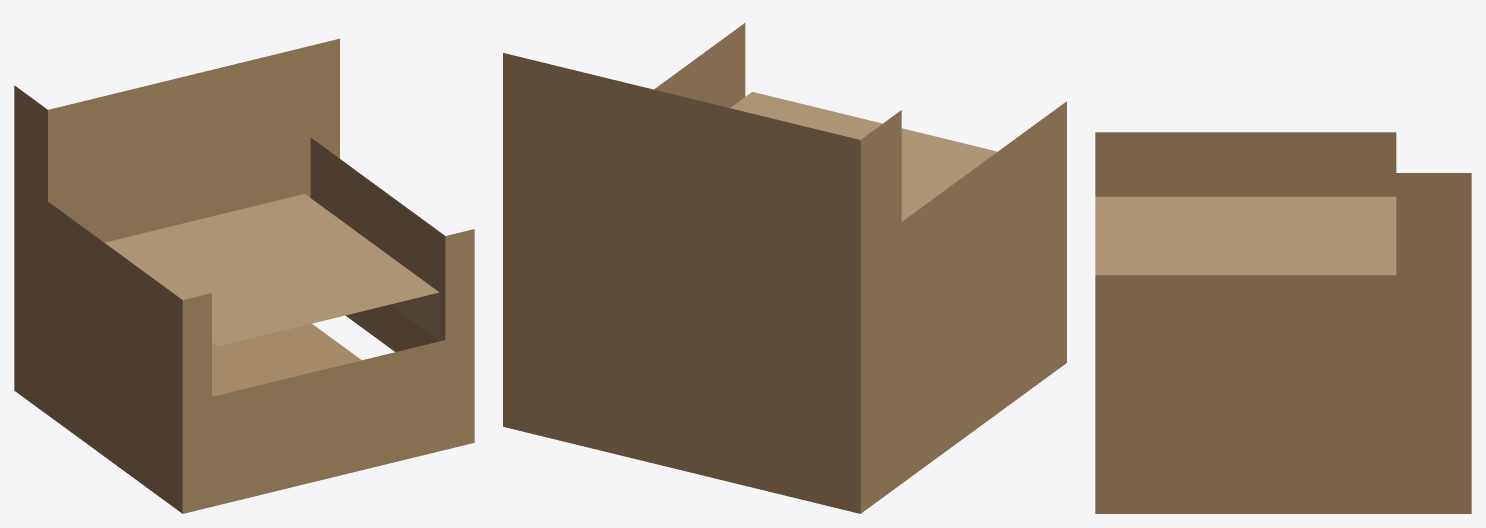
File: Sofa-multicolor.glb
3 views of the same model, side by side, from view 1: azimuth 30°, elevation 25°; view 2: azimuth 150°, elevation 25°; view 3: azimuth 270°, elevation 25° (orthographic). The views are drawn at different scales.
Parts seen in each view (by area): view 1: Sofa; view 2: Sofa; view 3: Sofa.
Part boxes in pixels (x1,y1,x2,y2): Sofa: [14, 38, 474, 513]; Sofa: [503, 23, 1066, 513]; Sofa: [1095, 132, 1471, 513].
Size of the model in its own units: 1 by 1 by 1.
